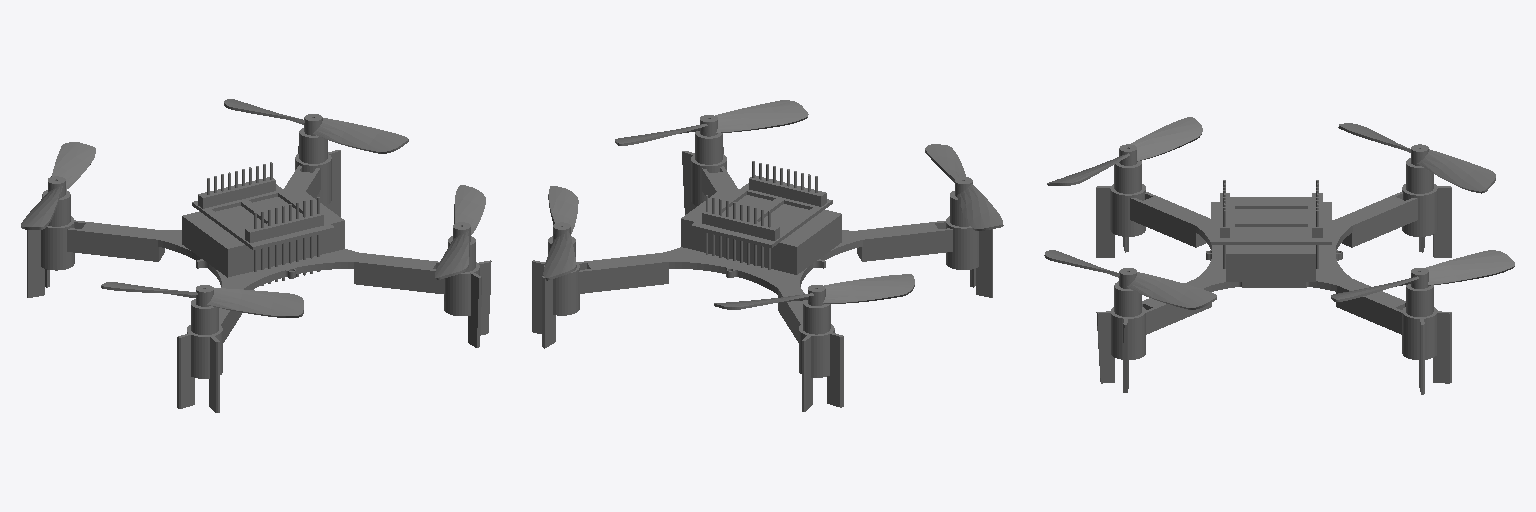
robot.urdf — drone:
<?xml version="1.0" ?>

<robot name="drone">

  <properties arm="0.218" kf="2.3685e-7" km="4.421e-9" thrust2weight="5.64" max_speed_kmh="120" gnd_eff_coeff="11.36859" prop_radius="12.7e-2" drag_coeff_xy="9.1785e-7" drag_coeff_z="10.311e-7" dw_coeff_1="2267.18" dw_coeff_2=".16" dw_coeff_3="-.11" />

  <link name="base_link">

    <inertial>
      <origin rpy="0 0 0" xyz="0 0 0"/>
      <mass value="1.68"/>
      <inertia ixx=".0183" ixy="0.0" ixz="0.0" iyy=".0157" iyz="0.0" izz=".0297"/>
    </inertial>

    <visual>
      <origin rpy="0 0 0" xyz="0 0 0"/>
      <geometry>
        <mesh filename="drone.dae" scale="1 1 1"/>
      </geometry>
      <material name="grey">
        <color rgba=".5 .5 .5 1"/>
      </material>
    </visual>

    <collision>
      <origin rpy="0 0 0" xyz="0 0 0"/>
      <geometry>
        <cylinder radius=".187" length=".125"/>
      </geometry>
    </collision>

  </link>

  <link name="prop0_link">
    <inertial>
      <origin rpy="0 0 0" xyz="0.150 0.165 0"/>
      <mass value="0"/>
      <inertia ixx="0" ixy="0" ixz="0" iyy="0" iyz="0" izz="0"/>
    </inertial>
  </link>
  <joint name="prop0_joint" type="fixed">
    <parent link="base_link"/>
    <child link="prop0_link"/>
  </joint>

  <link name="prop1_link">
    <inertial>
      <origin rpy="0 0 0" xyz="-0.135 0.165 0"/>
      <mass value="0"/>
      <inertia ixx="0" ixy="0" ixz="0" iyy="0" iyz="0" izz="0"/>
    </inertial>
  </link>
  <joint name="prop1_joint" type="fixed">
    <parent link="base_link"/>
    <child link="prop1_link"/>
  </joint>

  <link name="prop2_link">
    <inertial>
      <origin rpy="0 0 0" xyz="-0.135 -0.165 0"/>
      <mass value="0"/>
      <inertia ixx="0" ixy="0" ixz="0" iyy="0" iyz="0" izz="0"/>
    </inertial>
  </link>
  <joint name="prop2_joint" type="fixed">
    <parent link="base_link"/>
    <child link="prop2_link"/>
  </joint>

  <link name="prop3_link">
    <inertial>
      <origin rpy="0 0 0" xyz="0.150 -0.165 0"/>
      <mass value="0"/>
      <inertia ixx="0" ixy="0" ixz="0" iyy="0" iyz="0" izz="0"/>
    </inertial>
  </link>
  <joint name="prop3_joint" type="fixed">
    <parent link="base_link"/>
    <child link="prop3_link"/>
  </joint>

  <link name="center_of_mass_link">
    <inertial>
      <origin rpy="0 0 0" xyz="0 0 0"/>
      <mass value="0"/>
      <inertia ixx="0" ixy="0" ixz="0" iyy="0" iyz="0" izz="0"/>
    </inertial>
  </link>
  <joint name="center_of_mass_joint" type="fixed">
    <parent link="base_link"/>
    <child link="center_of_mass_link"/>
  </joint>

</robot>

--- What the picture shows (computed from the rendered views, not written in the file) ---
The picture shows the robot from 3 angles, left to right: view 1: azimuth 30°, elevation 25°; view 2: azimuth 150°, elevation 25°; view 3: azimuth 270°, elevation 25°; orthographic projection.
Model drone with 6 links and 5 joints (5 fixed), rooted at base_link, posed every joint at zero.
Links seen in each view (by area): view 1: base_link; view 2: base_link; view 3: base_link.
Link boxes in pixels (x1,y1,x2,y2): base_link: (21, 99, 491, 412); base_link: (532, 100, 1003, 411); base_link: (1044, 117, 1514, 394).
Bounding box of the posed robot: 0.5409 × 0.5824 × 0.1712 m (x, y, z).
1 mesh visuals loaded from 1 distinct referenced files (1 Collada DAE).
